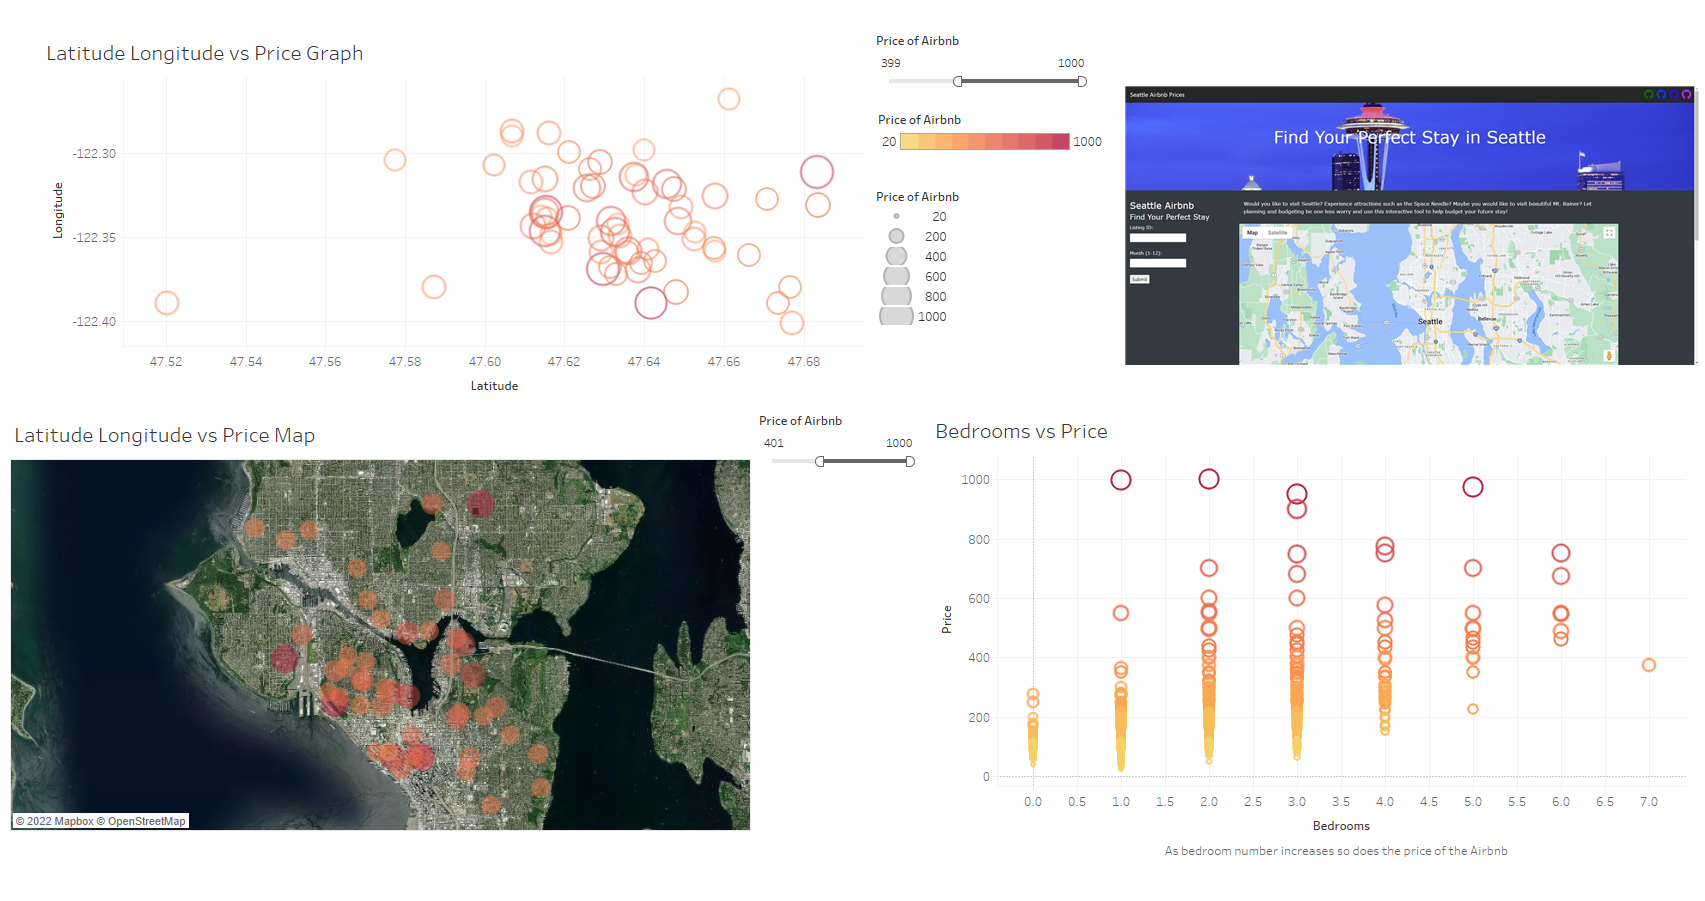

The dashboard page shown, as its layout file describes it:
{"tool":"tableau","page":{"name":"Airbnb Price Trends","canvas":[1000,1000],"units":"permille","ordinal":0},"visuals":[{"type":"filter","title":"Latitude Longitude vs Price Graph","param":"[federated.1blgb1f1aurzbs1gzd2xx0otds1k].[none:price:qk]","box":[513.8,37.6,125.8,76.3]},{"type":"web page","param":"https://emilyporter920.github.io/final_project/","box":[661.2,37.6,326.5,487.8]},{"type":"worksheet","title":"Latitude Longitude vs Price Graph","mark":"Automatic","rows":["longitude"],"cols":["latitude"],"box":[25.8,39.8,482.2,406]},{"type":"legend","title":"Latitude Longitude vs Price Graph","param":"[federated.1blgb1f1aurzbs1gzd2xx0otds1k].[none:price:qk]","box":[514.9,125,134,95.1]},{"type":"legend","title":"Latitude Longitude vs Price Graph","param":"[federated.1blgb1f1aurzbs1gzd2xx0otds1k].[none:price:qk]","box":[513.8,210.2,139.8,172.6]},{"type":"filter","title":"Latitude Longitude vs Price Map","param":"[federated.1blgb1f1aurzbs1gzd2xx0otds1k].[none:price:qk]","box":[445.3,458,93.6,67.5]},{"type":"worksheet","title":"Latitude Longitude vs Price Map","mark":"Automatic","rows":["latitude"],"cols":["longitude"],"box":[7,462.4,433.6,459.1]},{"type":"worksheet","title":"Bedrooms vs Price","mark":"Automatic","rows":["price"],"cols":["bedrooms"],"box":[545.9,532.1,441.8,400.4]},{"type":"text","box":[681.1,925.9,204.2,33.2]}]}

Visuals, with their boxes on the dashboard's canvas, which has no fixed pixel size, in thousandths of its width and height (x1, y1, x2, y2). These are canvas units, not pixel positions in the 1705x901 screenshot, which may show the page scaled, cropped or inside an application window:
"Latitude Longitude vs Price Graph" filter: crop(514, 38, 640, 114)
web page: crop(661, 38, 988, 525)
"Latitude Longitude vs Price Graph" worksheet: crop(26, 40, 508, 446)
"Latitude Longitude vs Price Graph" legend: crop(515, 125, 649, 220)
"Latitude Longitude vs Price Graph" legend: crop(514, 210, 654, 383)
"Latitude Longitude vs Price Map" filter: crop(445, 458, 539, 526)
"Latitude Longitude vs Price Map" worksheet: crop(7, 462, 441, 922)
"Bedrooms vs Price" worksheet: crop(546, 532, 988, 932)
text: crop(681, 926, 885, 959)
